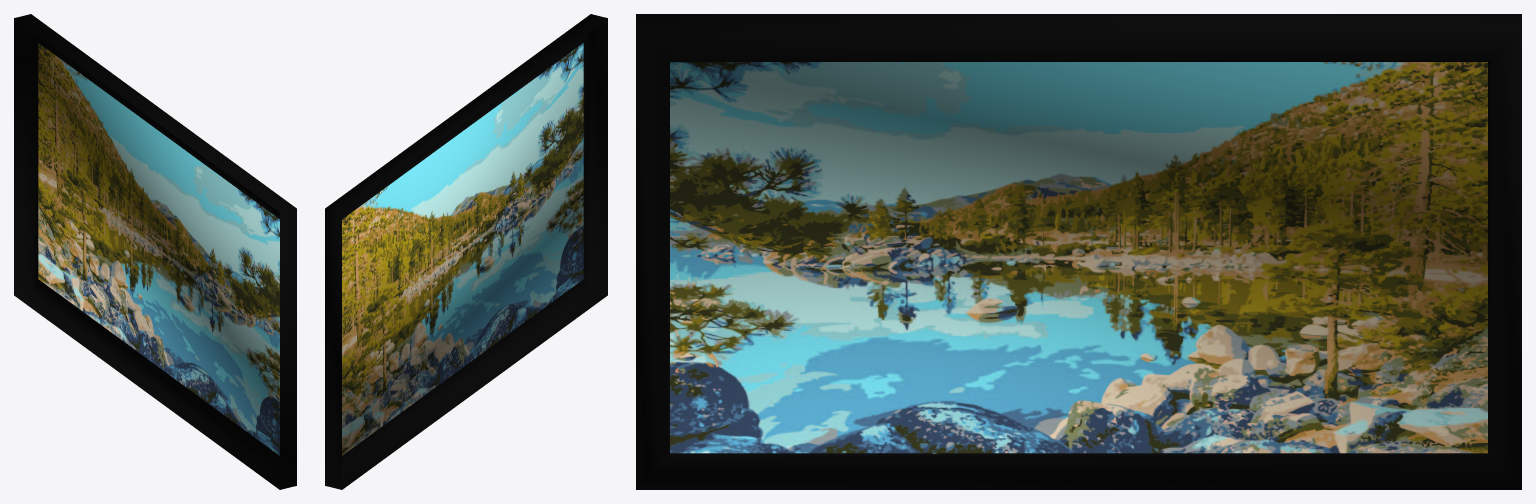
File: PAYSAGE.fbx
3 renders of one model, left to right at view 1: azimuth 30°, elevation 25°; view 2: azimuth 150°, elevation 25°; view 3: azimuth 270°, elevation 25°, orthographic. The views are drawn at different scales.
Visible parts, largest first — view 1: vitre; view 2: vitre; view 3: vitre.
Boxes of the visible parts, left/top/right/bottom form: vitre: left=14, top=14, right=296, bottom=489; vitre: left=325, top=14, right=607, bottom=489; vitre: left=636, top=14, right=1521, bottom=489.
Bounding box in the file's own units: 8.48 × 130 × 226.
